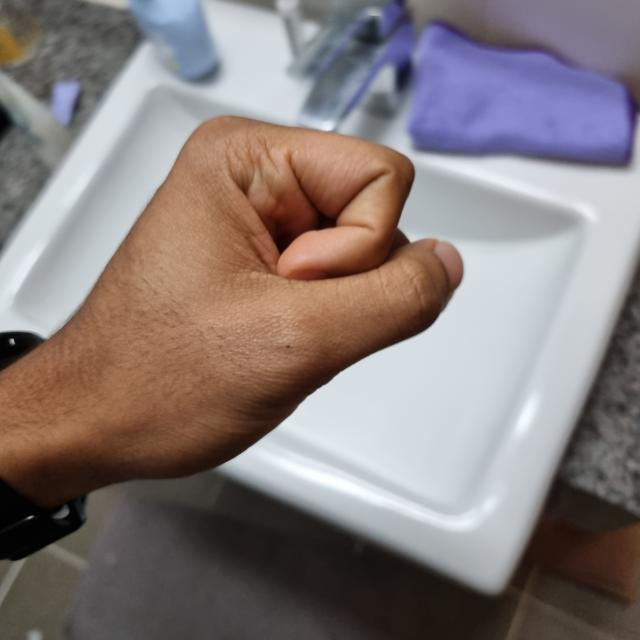Rock: (21, 116, 458, 481)
